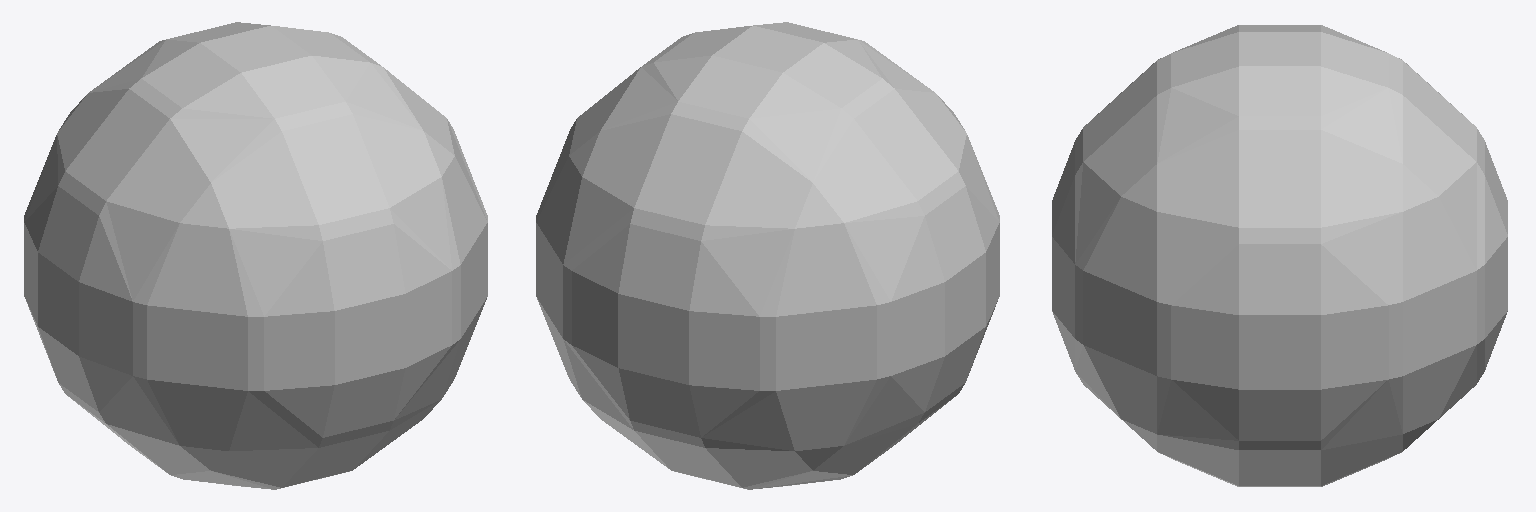
The model's file is Ball.obj.
3 renders of one model, left to right at view 1: azimuth 30°, elevation 25°; view 2: azimuth 150°, elevation 25°; view 3: azimuth 270°, elevation 25°, orthographic.
Visible parts, largest first — view 1: Mball; view 2: Mball; view 3: Mball.
Part boxes in pixels (bbox=[...]): Mball: bbox=[24, 22, 487, 489]; Mball: bbox=[536, 22, 999, 489]; Mball: bbox=[1052, 25, 1507, 486].
Bounding box in the file's own units: 2.23 × 2.23 × 2.23.